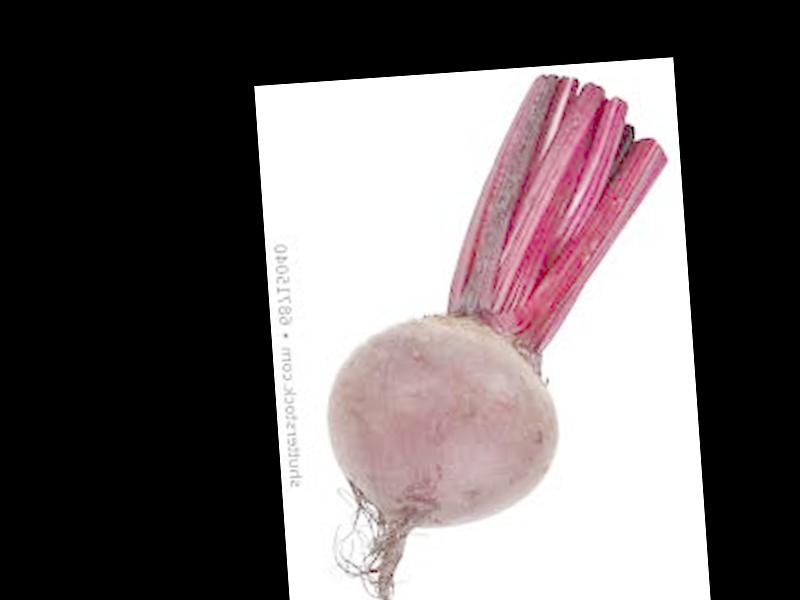Beet: (306, 66, 695, 600)
